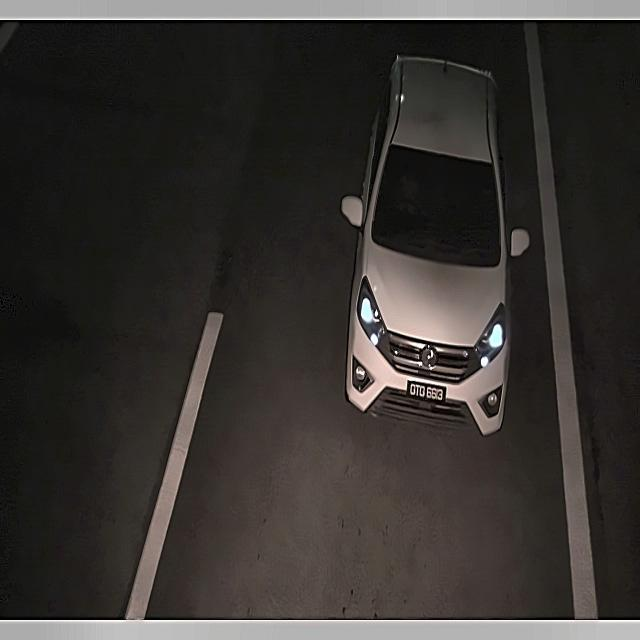car: (404, 373, 451, 411)
